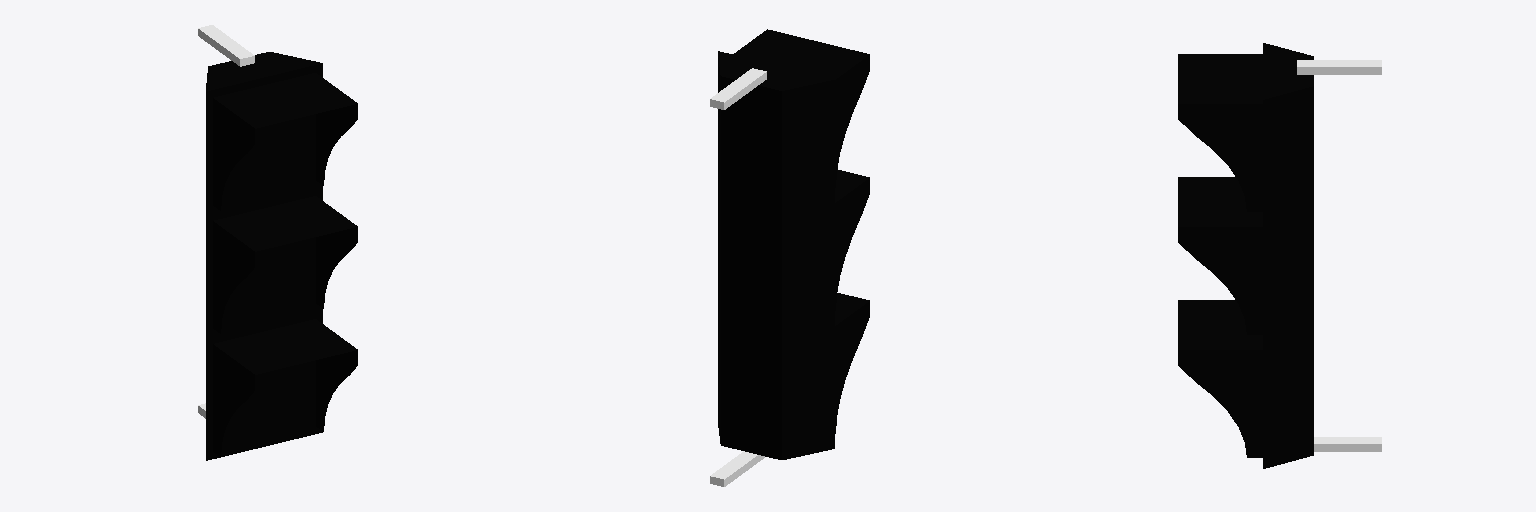
The model's file is TLS5_vertical.obj.
The picture shows the model from 3 angles: view 1: azimuth 30°, elevation 25°; view 2: azimuth 150°, elevation 25°; view 3: azimuth 270°, elevation 25°; orthographic projection.
Size of the model in its own units: 1 by 3.12 by 1.5.